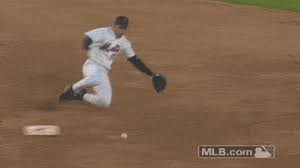baseball: (120, 132, 129, 142)
baseball player: (57, 13, 169, 108)
